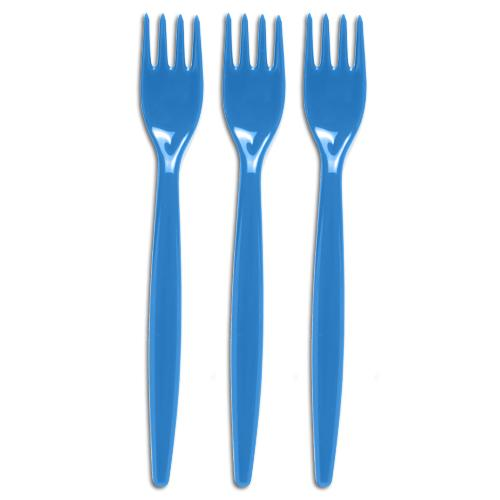Fork: (301, 12, 367, 489), (138, 12, 204, 489), (220, 12, 286, 488)
